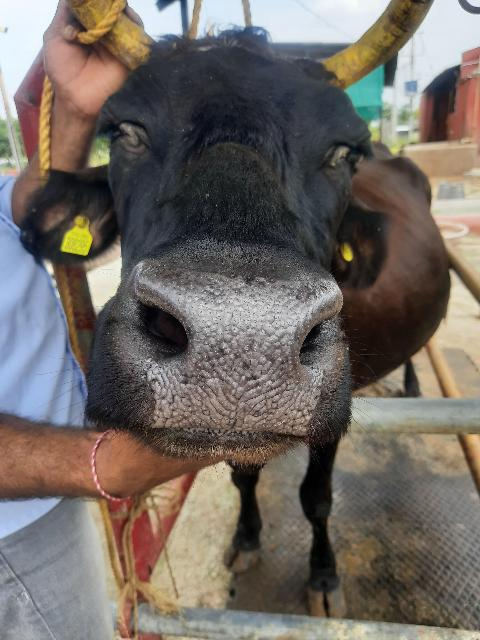Muzzle: (164, 273, 313, 435)
